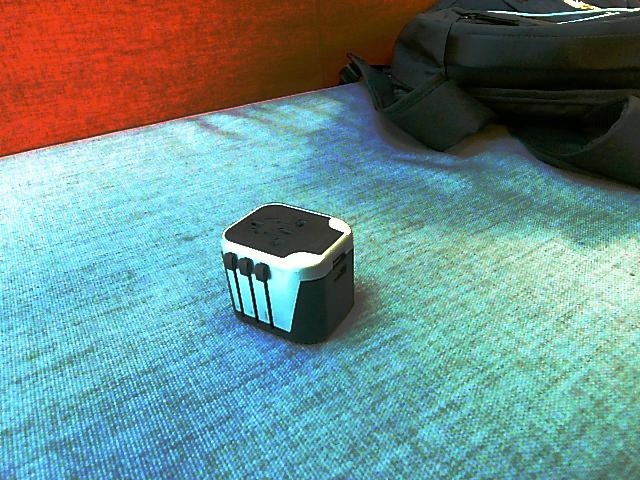adapter: (219, 202, 355, 344)
